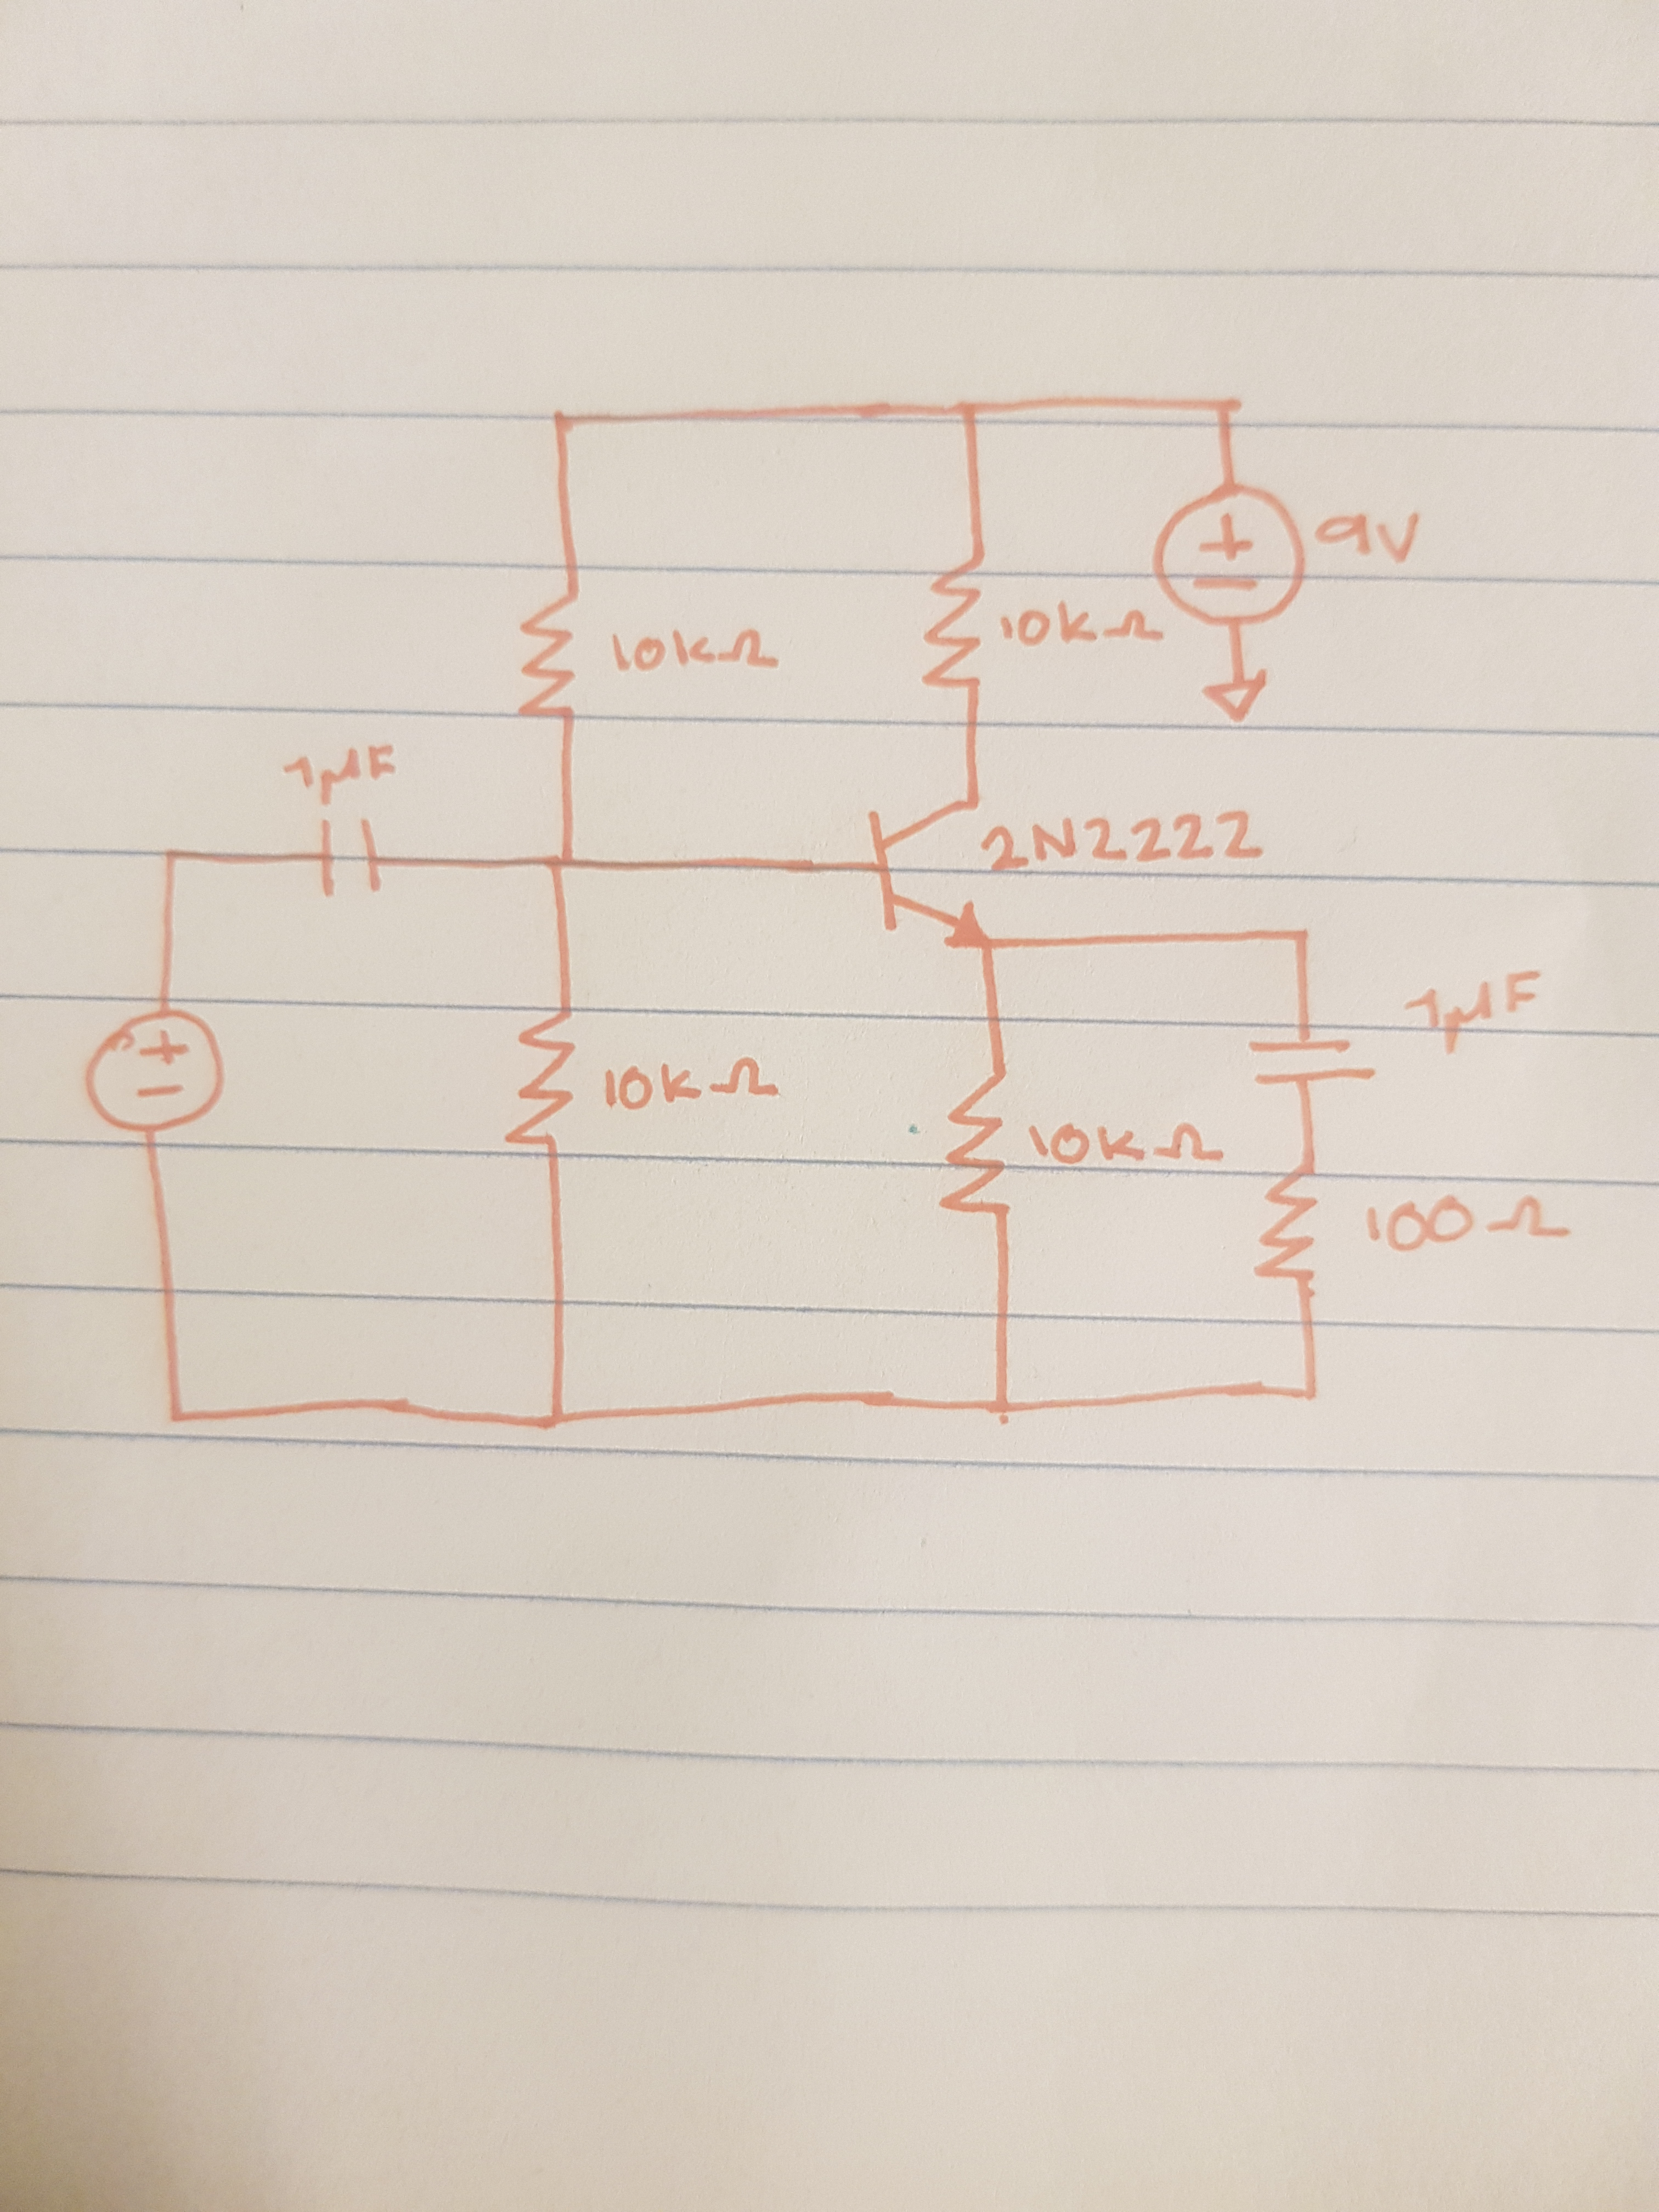capacitor.unpolarized: (1243, 1033, 1380, 1090), (314, 815, 385, 902)
gnd: (1199, 671, 1269, 725)
junction: (986, 1392, 1016, 1430), (533, 1404, 570, 1432), (1290, 921, 1321, 951), (542, 850, 579, 874), (547, 404, 577, 434), (1213, 397, 1248, 420), (1295, 1378, 1319, 1404), (166, 1406, 190, 1428), (958, 402, 983, 423), (160, 841, 179, 862)
resistor: (936, 1064, 1018, 1226), (504, 1000, 577, 1151), (512, 592, 592, 726), (920, 556, 993, 690), (1248, 1160, 1319, 1284)
text: (978, 808, 1270, 873), (1396, 968, 1549, 1057), (1358, 1197, 1581, 1254), (598, 1054, 784, 1115), (1019, 1120, 1232, 1167), (606, 624, 788, 674), (279, 740, 399, 806), (990, 604, 1166, 648), (1309, 510, 1436, 564)
transistor: (864, 796, 1000, 953)
voltage.dc: (1150, 481, 1307, 627), (82, 1003, 227, 1137)
